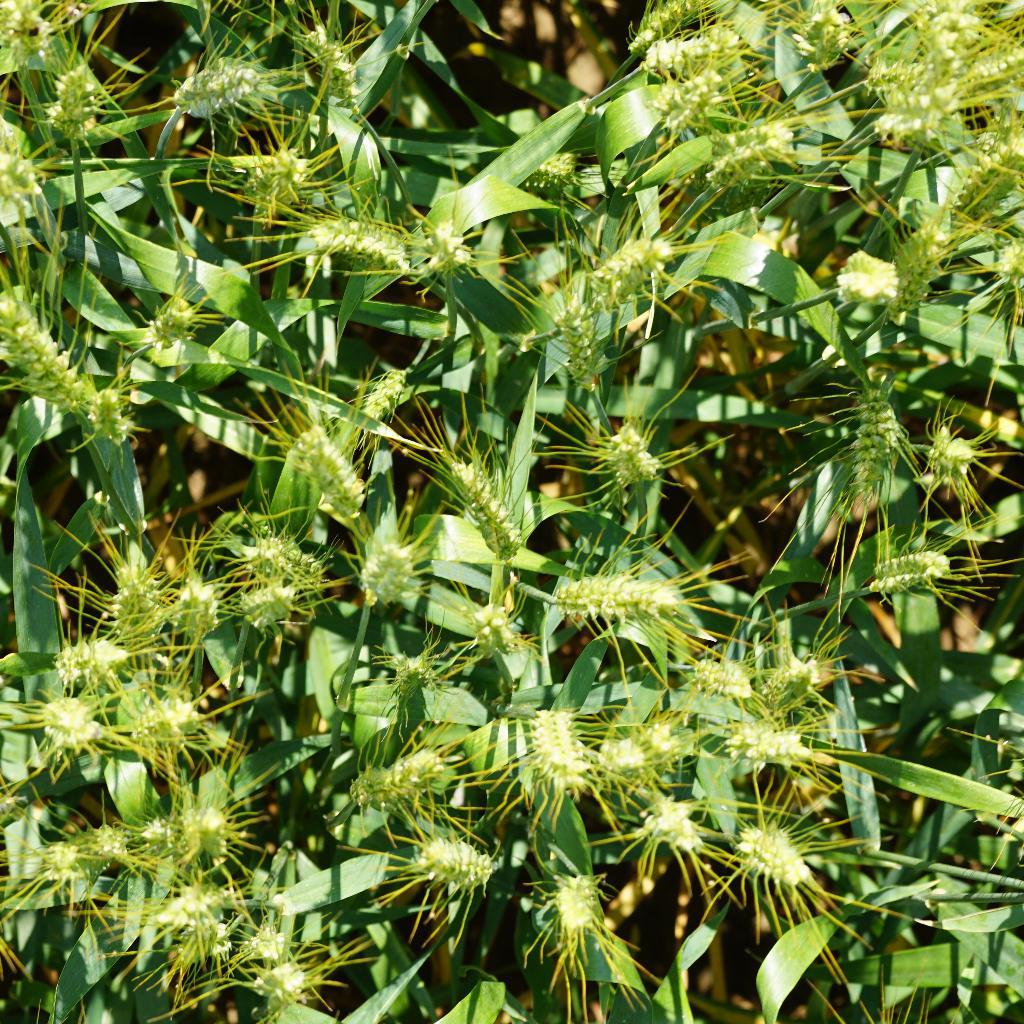0-0: (429, 445, 534, 576), (874, 198, 953, 343), (0, 288, 96, 402), (718, 810, 828, 909), (544, 563, 687, 635), (539, 871, 632, 971), (160, 53, 275, 133), (302, 197, 417, 277), (838, 367, 905, 504), (351, 740, 467, 819), (572, 223, 681, 306), (288, 415, 374, 512), (854, 53, 968, 126), (855, 535, 971, 605), (234, 141, 327, 228), (217, 511, 310, 598), (616, 774, 701, 867), (757, 628, 852, 710), (718, 712, 838, 776), (945, 139, 1024, 235), (706, 129, 811, 201), (298, 29, 377, 122), (34, 47, 98, 157), (548, 306, 615, 411), (601, 419, 672, 518), (537, 691, 595, 807), (97, 567, 174, 654), (407, 829, 512, 892), (639, 26, 743, 89), (912, 415, 991, 497), (105, 687, 200, 754), (41, 826, 130, 897), (160, 890, 243, 964), (500, 144, 590, 209), (810, 245, 904, 307), (352, 508, 410, 606), (133, 279, 217, 346), (656, 70, 732, 144), (157, 578, 224, 660), (29, 690, 107, 759), (352, 355, 432, 422), (414, 208, 479, 290), (916, 0, 996, 66), (219, 570, 298, 636), (179, 792, 247, 863), (45, 634, 131, 690), (70, 377, 134, 451), (129, 806, 200, 869), (677, 651, 757, 706), (619, 0, 727, 40), (634, 712, 710, 768), (0, 150, 59, 220), (240, 955, 316, 1009), (376, 643, 441, 706), (963, 52, 1024, 119), (864, 114, 950, 160), (0, 1, 68, 52), (463, 608, 519, 664), (238, 918, 306, 964), (604, 731, 650, 791)
